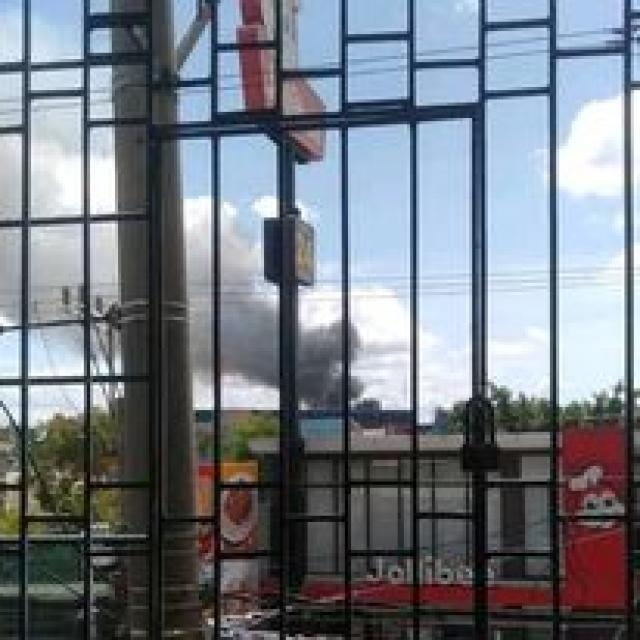Smoke: (226, 296, 274, 394), (297, 318, 339, 410)
